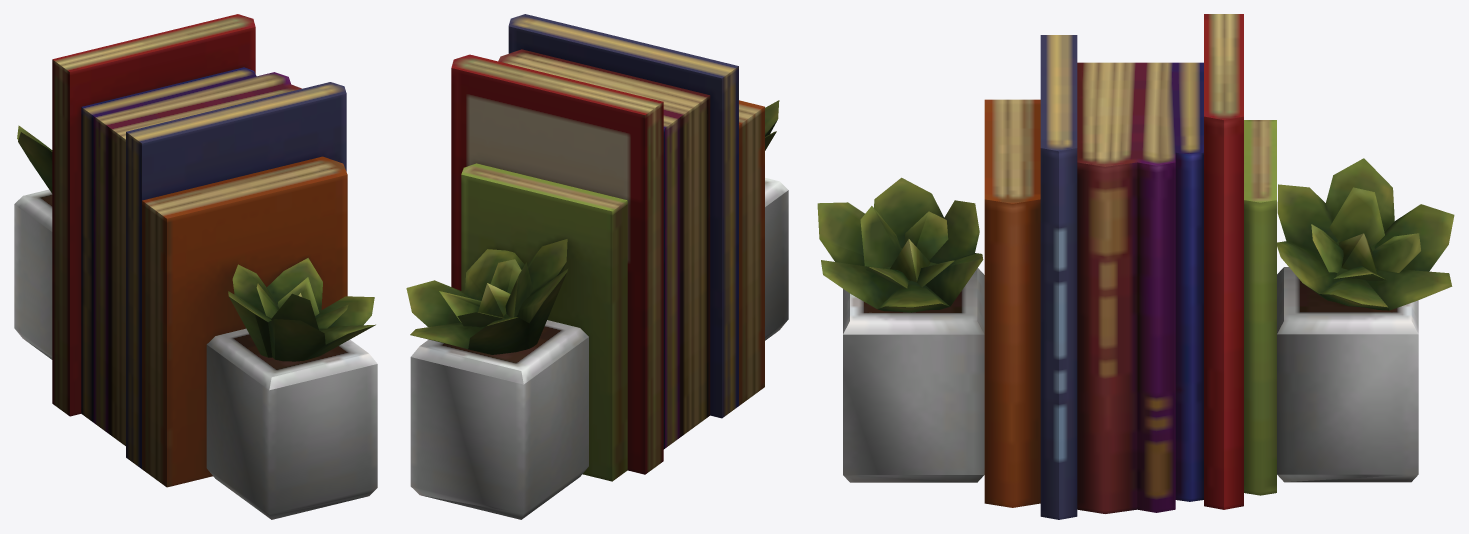
The model's file is 植物书挡.glb.
The picture shows the model from 3 angles, left to right: view 1: azimuth 30°, elevation 25°; view 2: azimuth 150°, elevation 25°; view 3: azimuth 270°, elevation 25°; orthographic projection. The views are drawn at different scales.
Visible parts, largest first — view 1: TinyLiving_BotanicalBookends_5; view 2: TinyLiving_BotanicalBookends_5; view 3: TinyLiving_BotanicalBookends_5.
Part boxes in pixels (<box>): TinyLiving_BotanicalBookends_5: <box>14,14,377,519</box>; TinyLiving_BotanicalBookends_5: <box>406,14,788,519</box>; TinyLiving_BotanicalBookends_5: <box>817,14,1454,519</box>.
Bounding box in the file's own units: 0.1995 × 0.3118 × 0.462.
1 material, 1 textured.
